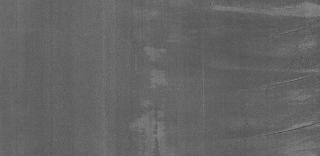scratches: (266, 12, 320, 40), (262, 116, 320, 138), (268, 73, 320, 96)
